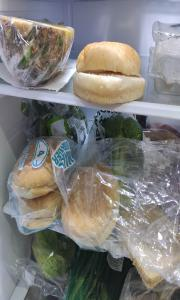Brocoli: (102, 114, 144, 178)
Lechuga/Endivia: (32, 228, 79, 284)
